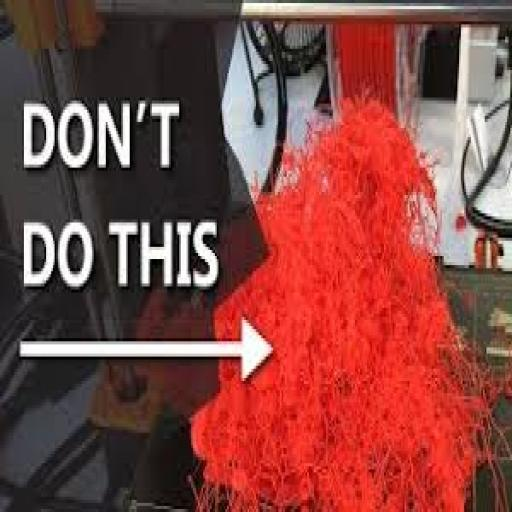spaghetti: (375, 395, 441, 437)
